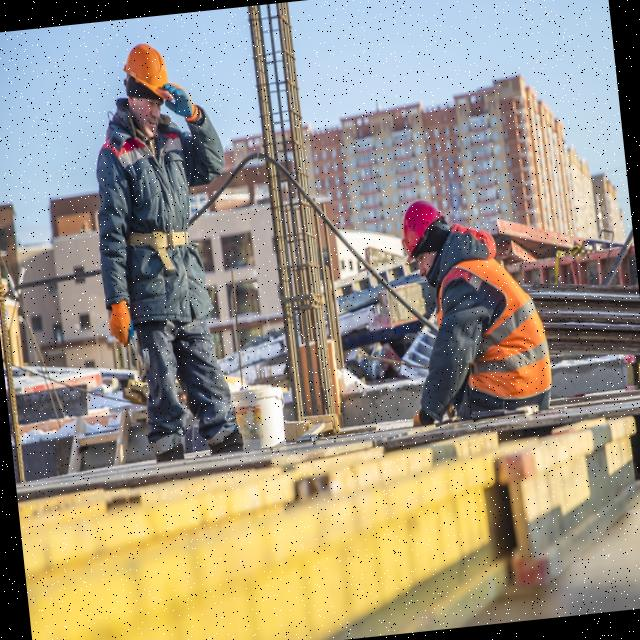Helmet: (120, 39, 174, 109), (397, 200, 450, 266)
Jacket: (438, 235, 540, 407)
NoJacket: (104, 104, 203, 331)
